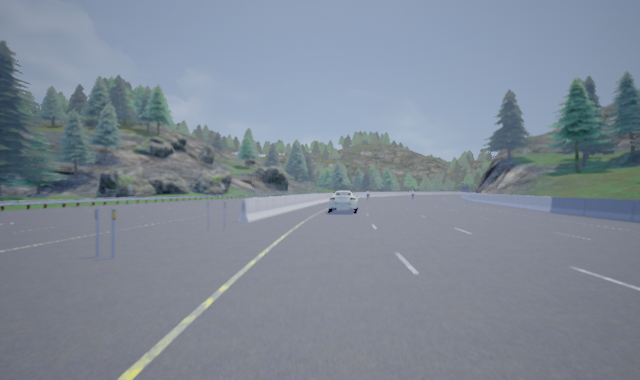vehicle: (327, 190, 358, 214)
